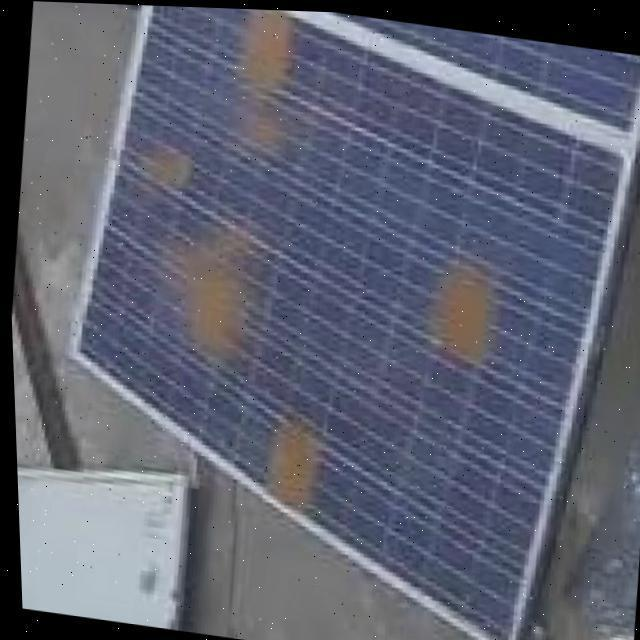Anomaly Solar Panel: (11, 4, 640, 640)
Surface Contaminant: (145, 217, 292, 368), (211, 7, 301, 163), (420, 260, 490, 365), (249, 416, 318, 514), (122, 141, 197, 200)
